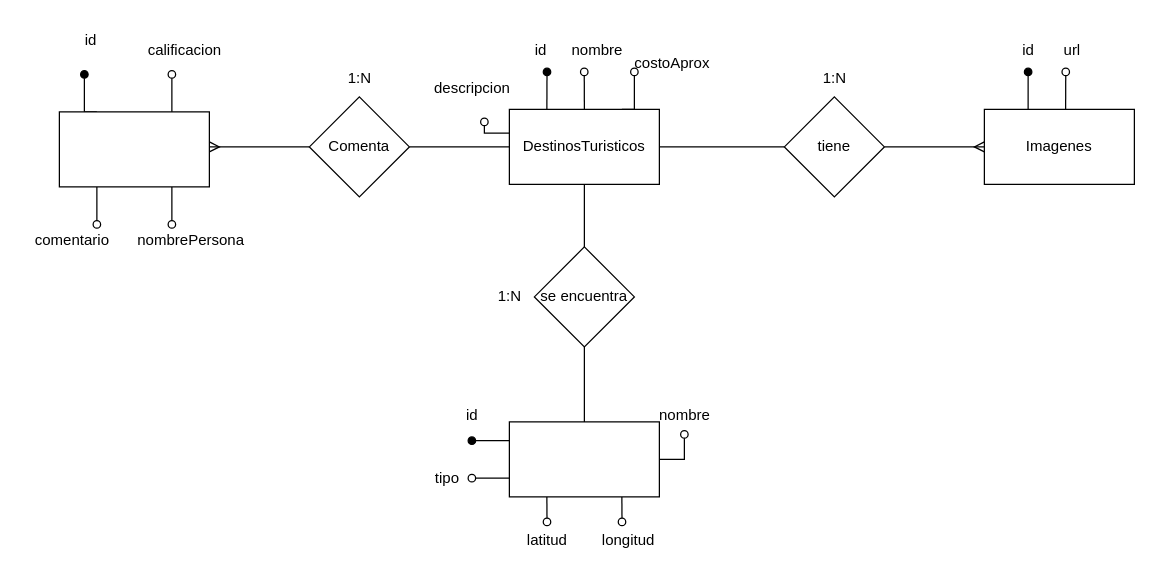
This 1156x580 diagram has some shape labels left out. The centre of each missing label's shape, as x and y in pixels:
"Resena" goes at (x=133, y=149).
"Ubicaciones" goes at (x=583, y=459).
